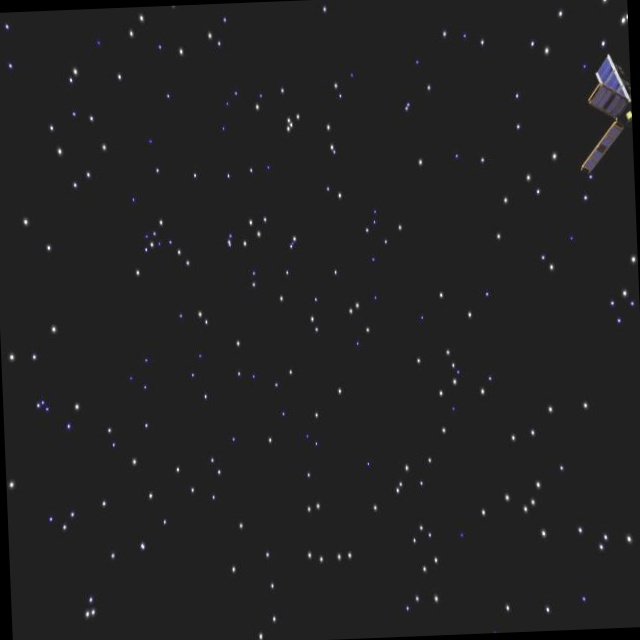satellite: (570, 54, 634, 177)
